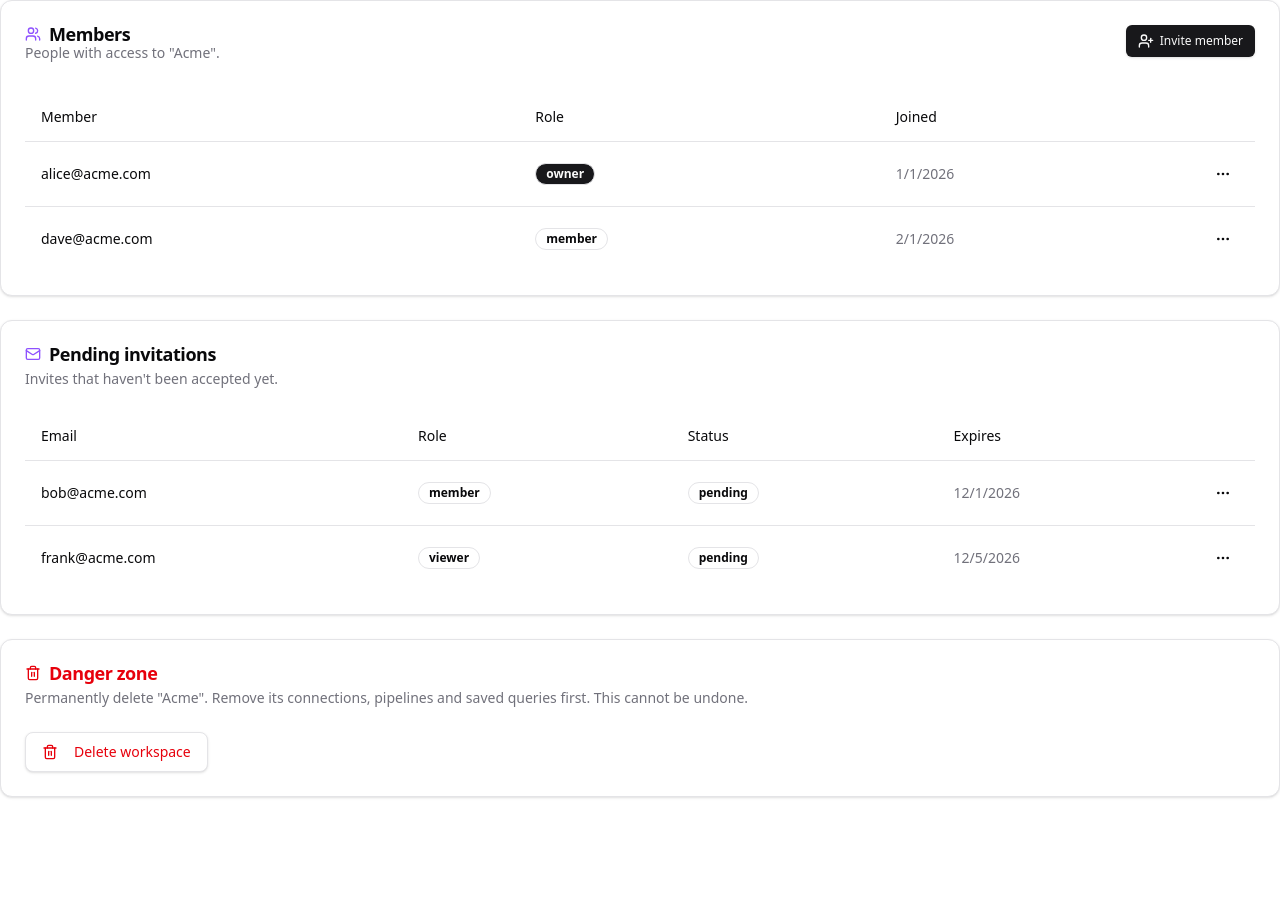
Scenario: WorkspaceMembers › keeps the permanent-delete button disabled until the workspace name is typed exactly
Check: the text "alice@acme.com" is shown, box [25,141,519,206]
Click the button "Delete workspace": (116, 752) [25,732,208,772]
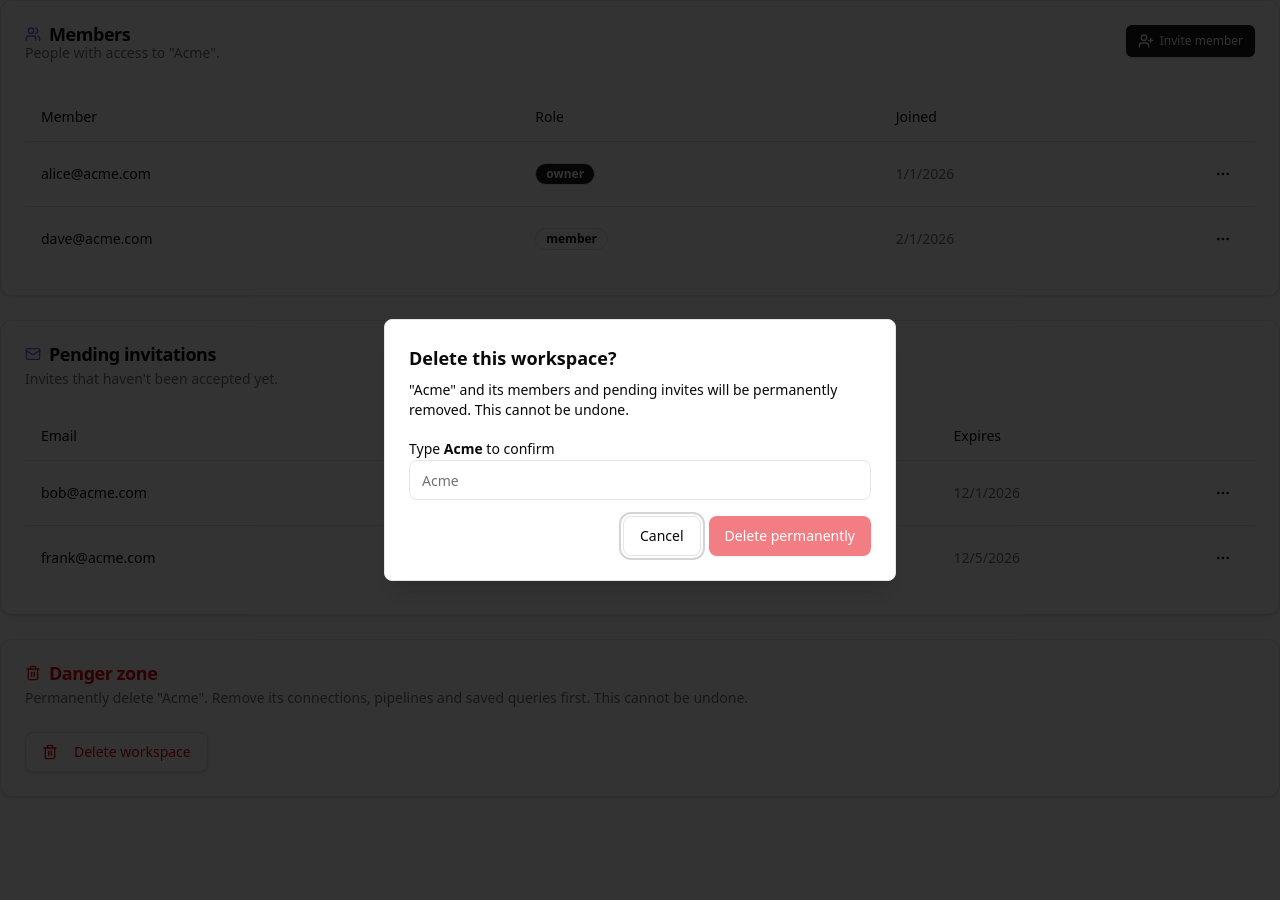
Check: the button "Delete permanently" is disabled, box [708,516,871,556]
In the field labelled "Type Acme to confirm": (640, 480) [409,460,871,500], type "Acm"
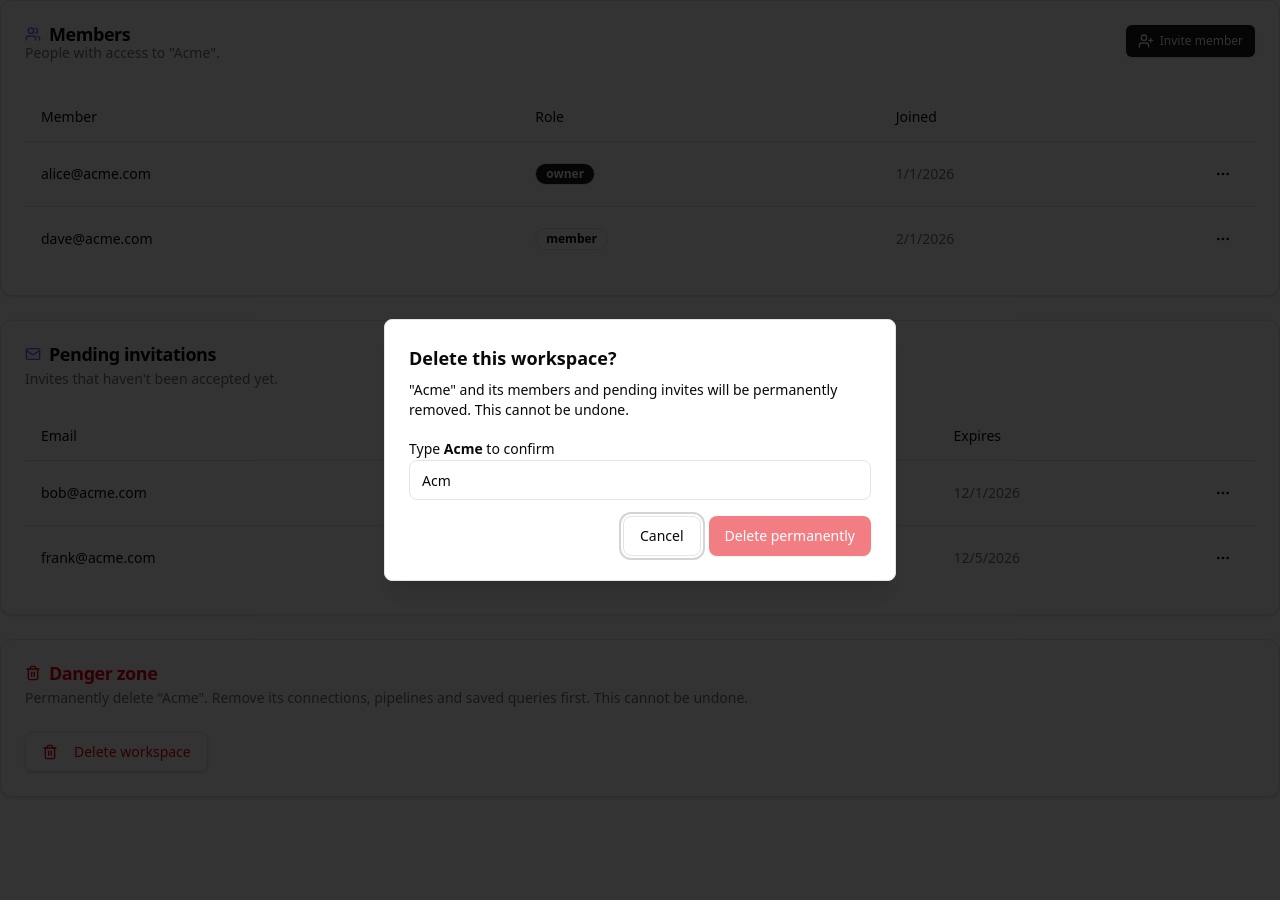
Check: the button "Delete permanently" is disabled, box [708,516,871,556]
Replace the text in the field labelled "Type Acme to confirm" with "Acme": (640, 480) [409,460,871,500]
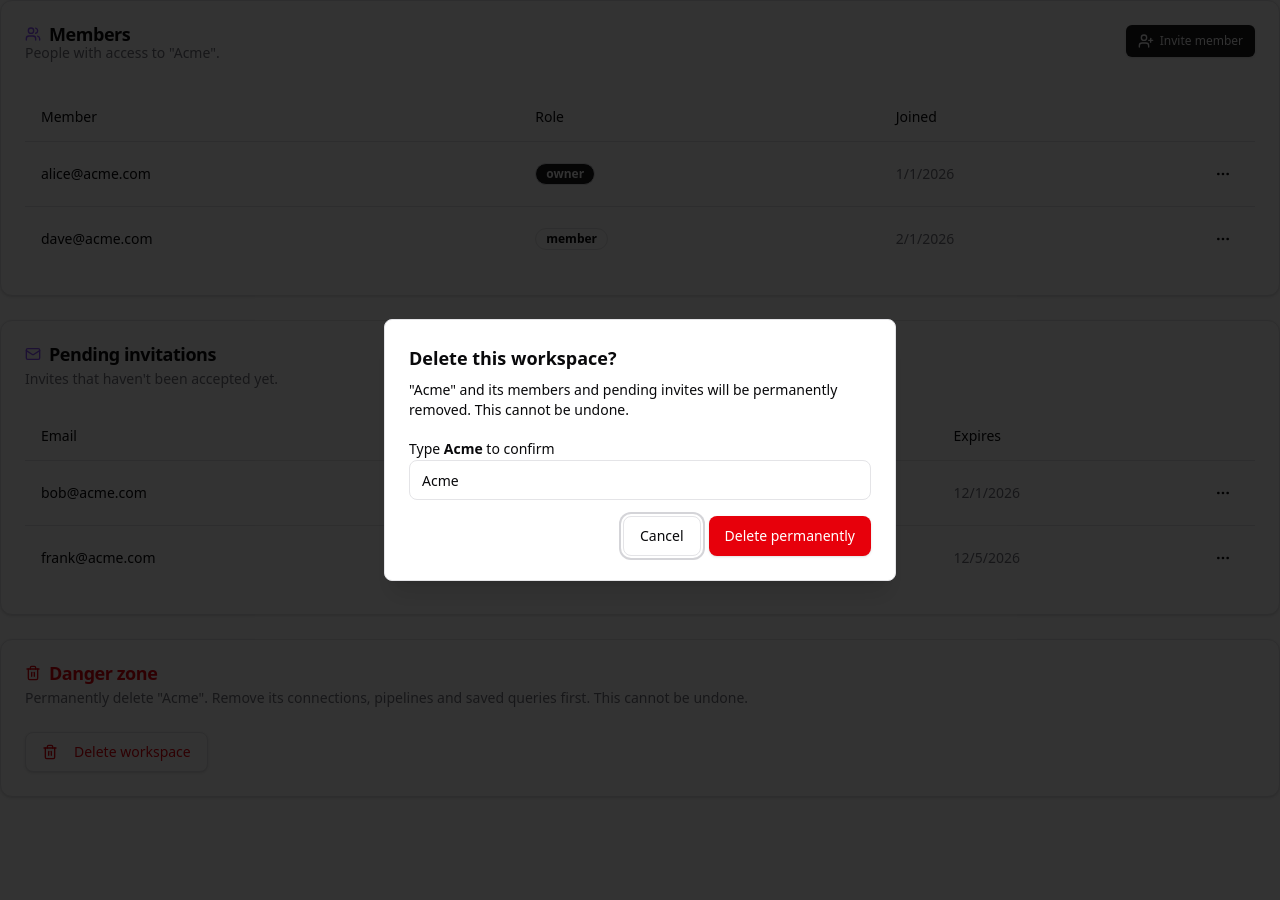
Check: the button "Delete permanently" is enabled, box [708,516,871,556]
